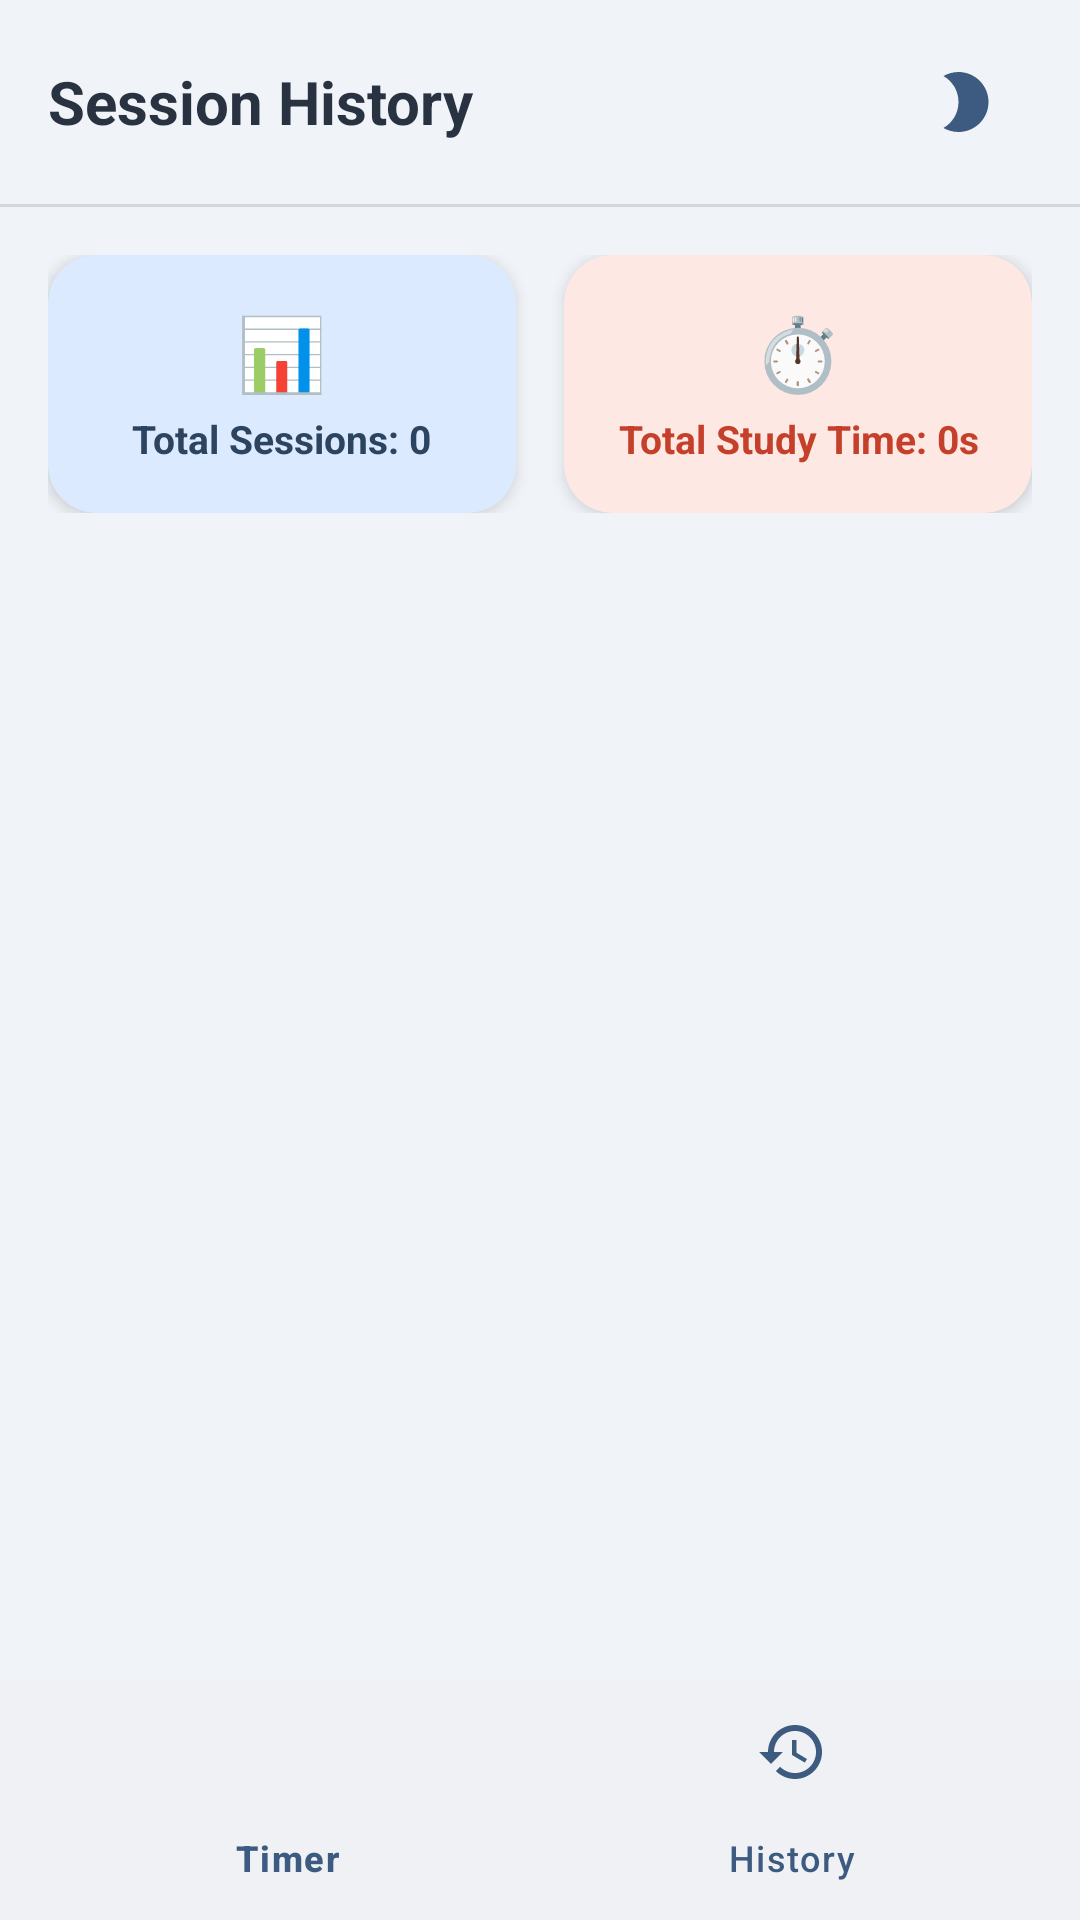

Icons on this 1080w x 1920h Android screen, each with the point to tap as (x,y):
Toggle theme: (966,102)
